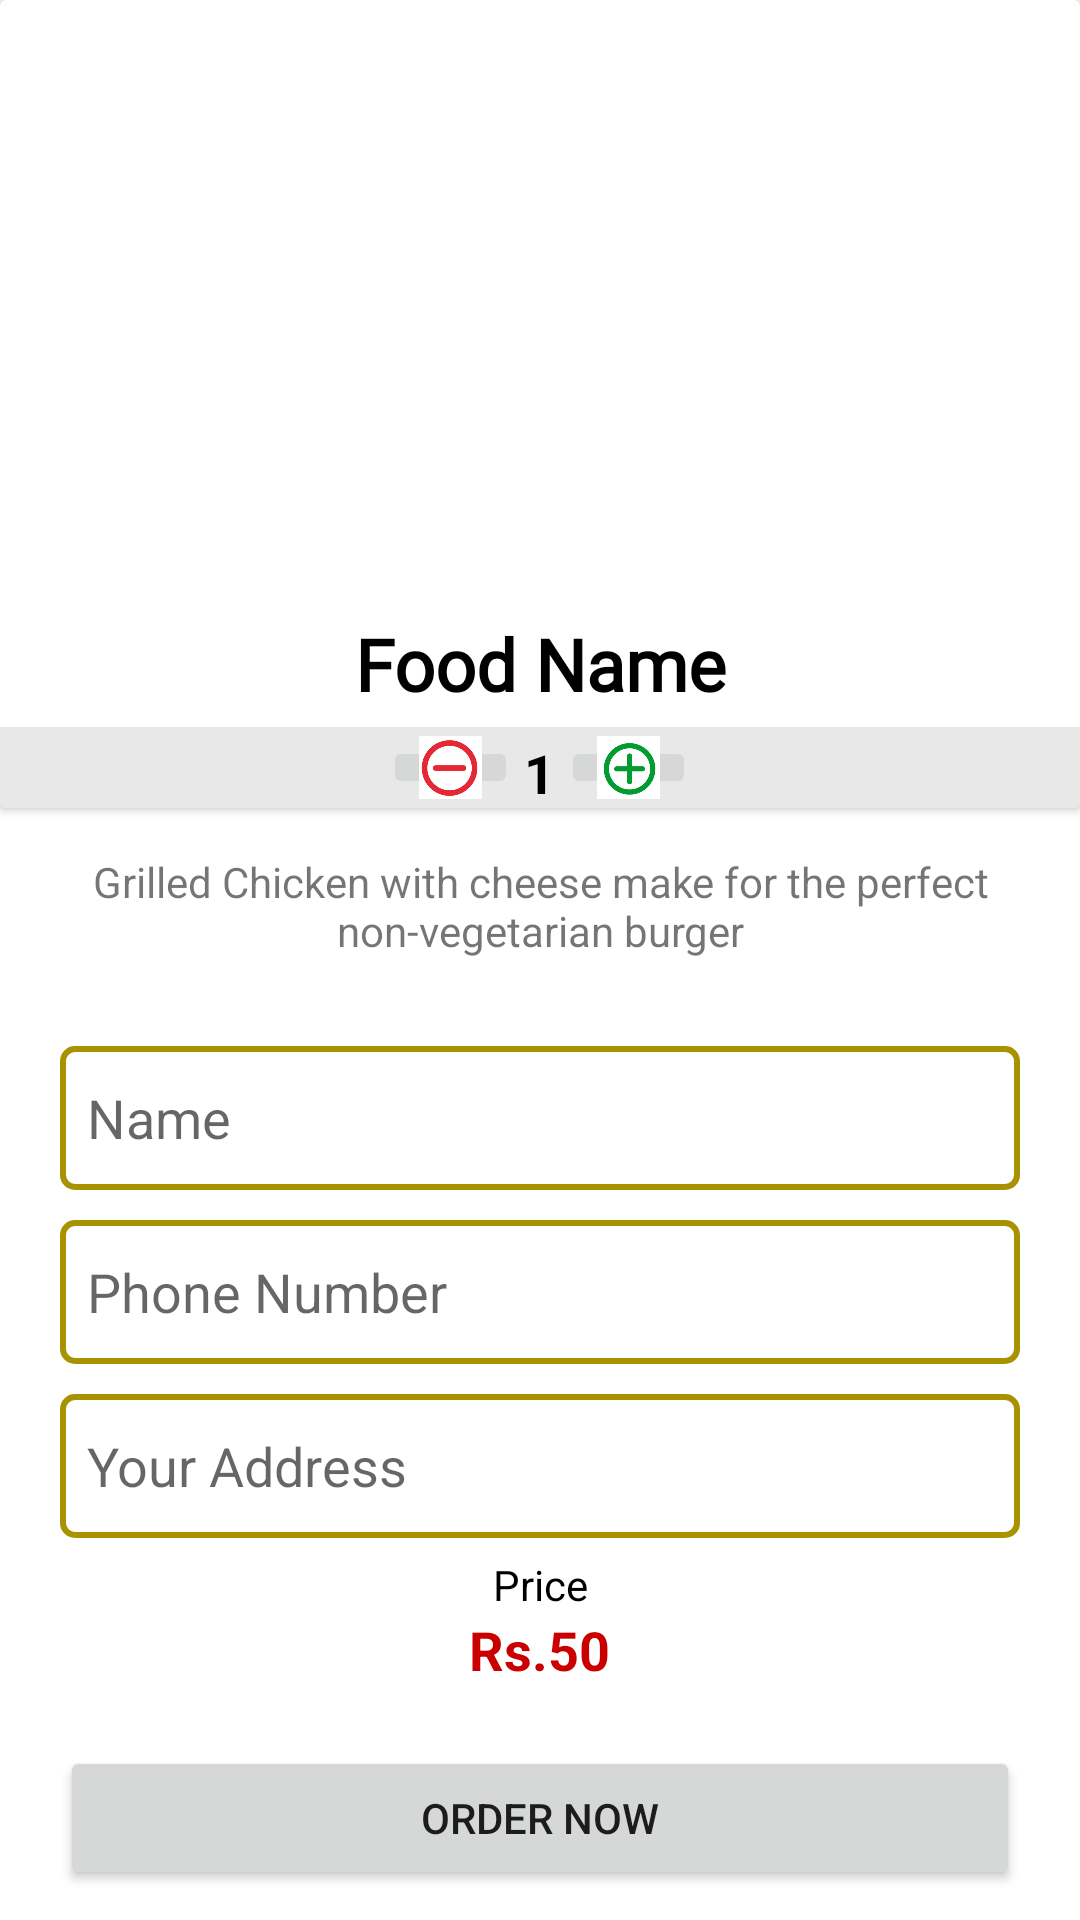

Where icons sit on this 1080x1920 app screen, as (x1, y1, x2, y2):
minus: (395, 736, 506, 799)
plus: (573, 736, 684, 799)
